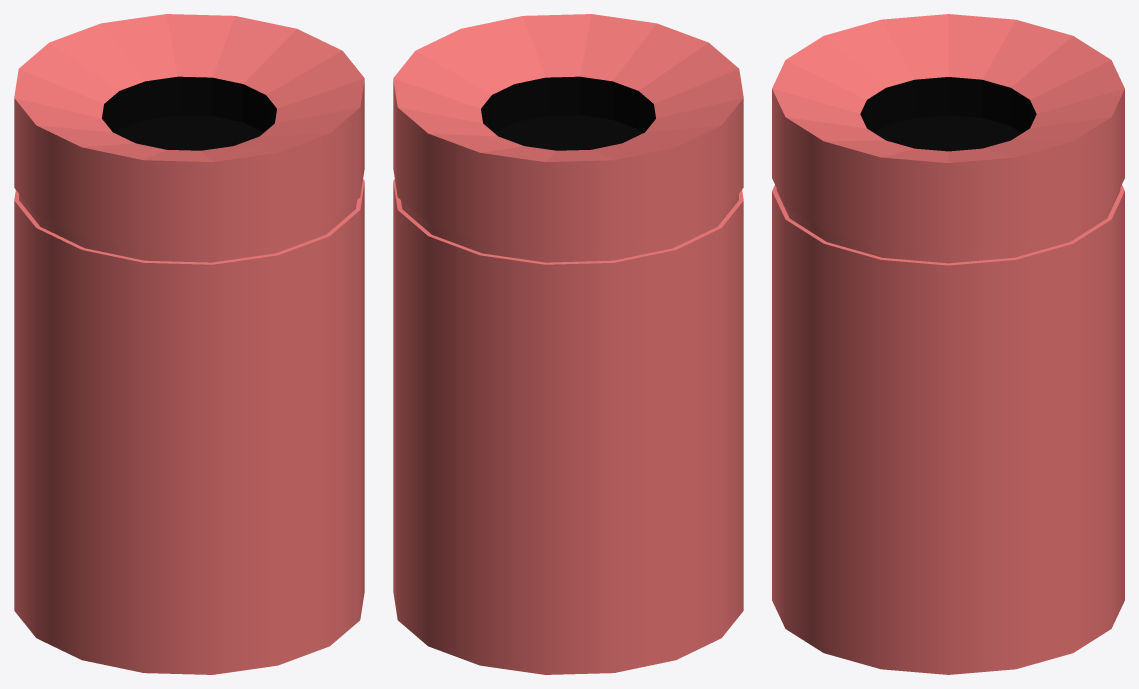
The model's file is Trashcan.fbx.
3 views of the same model, side by side, from view 1: azimuth 30°, elevation 25°; view 2: azimuth 150°, elevation 25°; view 3: azimuth 270°, elevation 25° (orthographic).
Visible parts, largest first — view 1: Trashcan; view 2: Trashcan; view 3: Trashcan.
Part boxes in pixels (<box>): Trashcan: <box>14,14,364,674</box>; Trashcan: <box>393,14,743,674</box>; Trashcan: <box>772,14,1124,674</box>.
Size of the model in its own units: 25 by 40 by 25.
